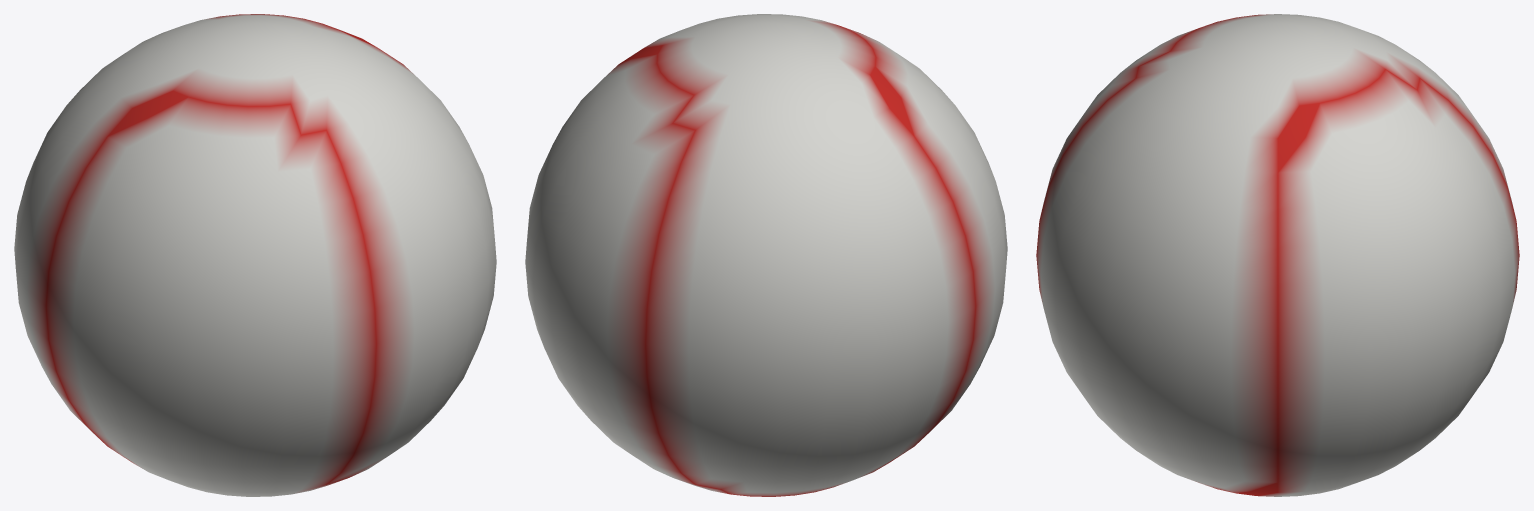
File: baseball.glb
3 renders of one model, left to right at view 1: azimuth 30°, elevation 25°; view 2: azimuth 150°, elevation 25°; view 3: azimuth 270°, elevation 25°, orthographic.
Parts seen in each view (by area): view 1: baseball; view 2: baseball; view 3: baseball.
Part boxes in pixels (x1,y1,x2,y2): baseball: (14, 14, 496, 496); baseball: (525, 14, 1007, 496); baseball: (1036, 14, 1519, 496).
Size of the model in its own units: 0.074 by 0.074 by 0.074.
